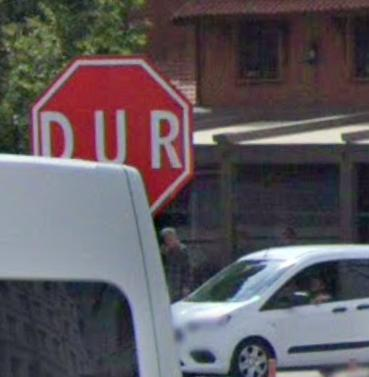stop: (35, 60, 190, 211)
